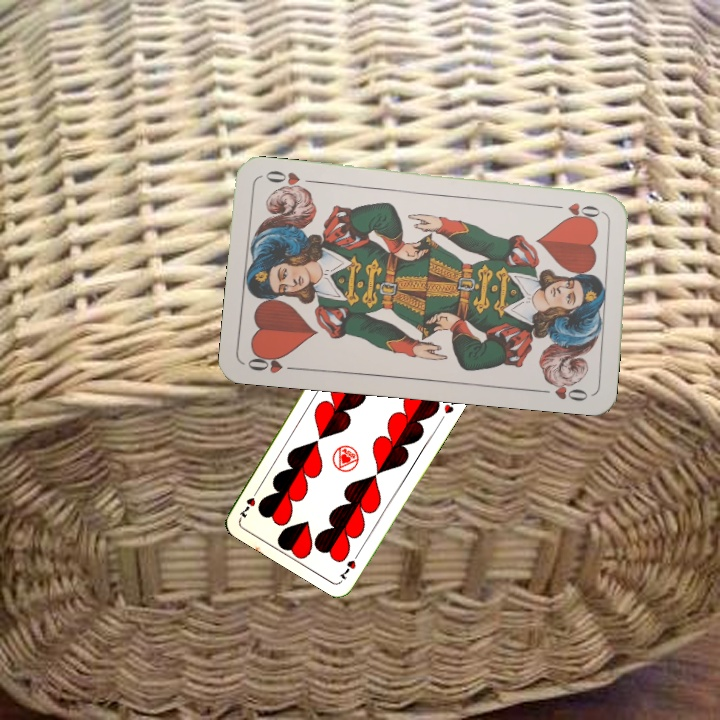H7: (335, 547, 363, 583)
HO: (243, 349, 302, 376), (548, 199, 607, 220)
